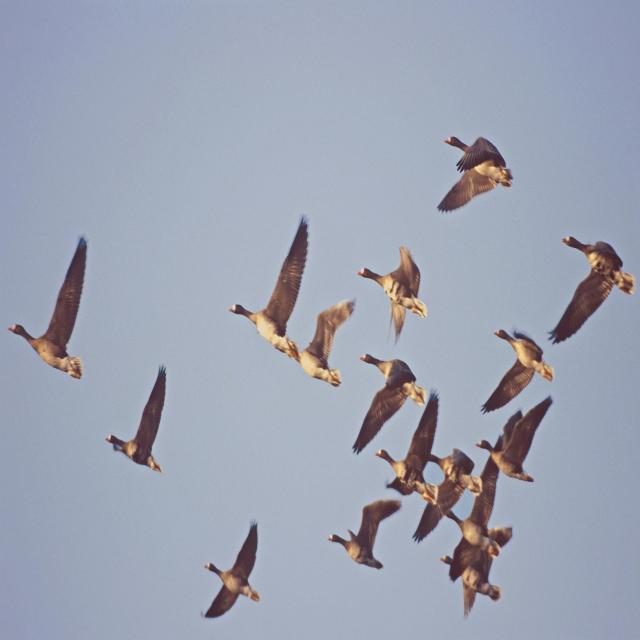bird: (228, 215, 309, 377), (6, 235, 88, 387), (550, 238, 637, 346), (352, 357, 429, 458), (353, 245, 428, 347), (475, 400, 556, 487), (412, 452, 482, 550), (105, 369, 170, 473), (441, 522, 509, 620), (374, 387, 434, 491), (436, 136, 511, 218), (482, 331, 553, 415), (200, 522, 262, 617), (328, 499, 406, 574), (296, 298, 354, 392)
